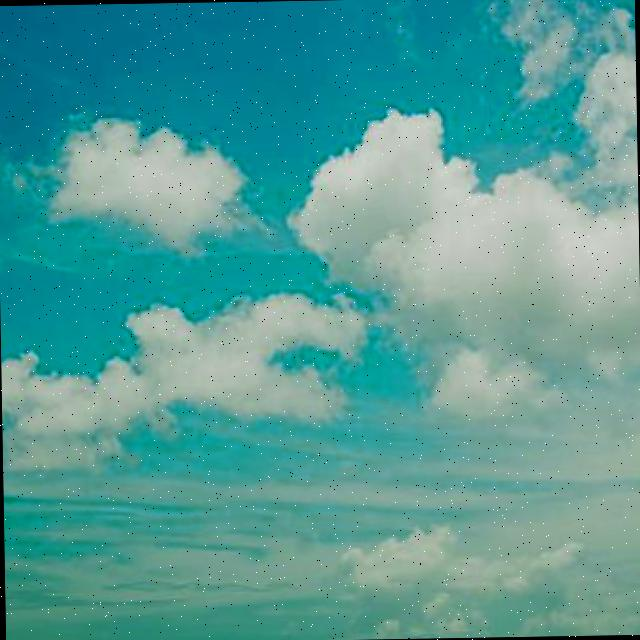Cc: (1, 256, 384, 491)
